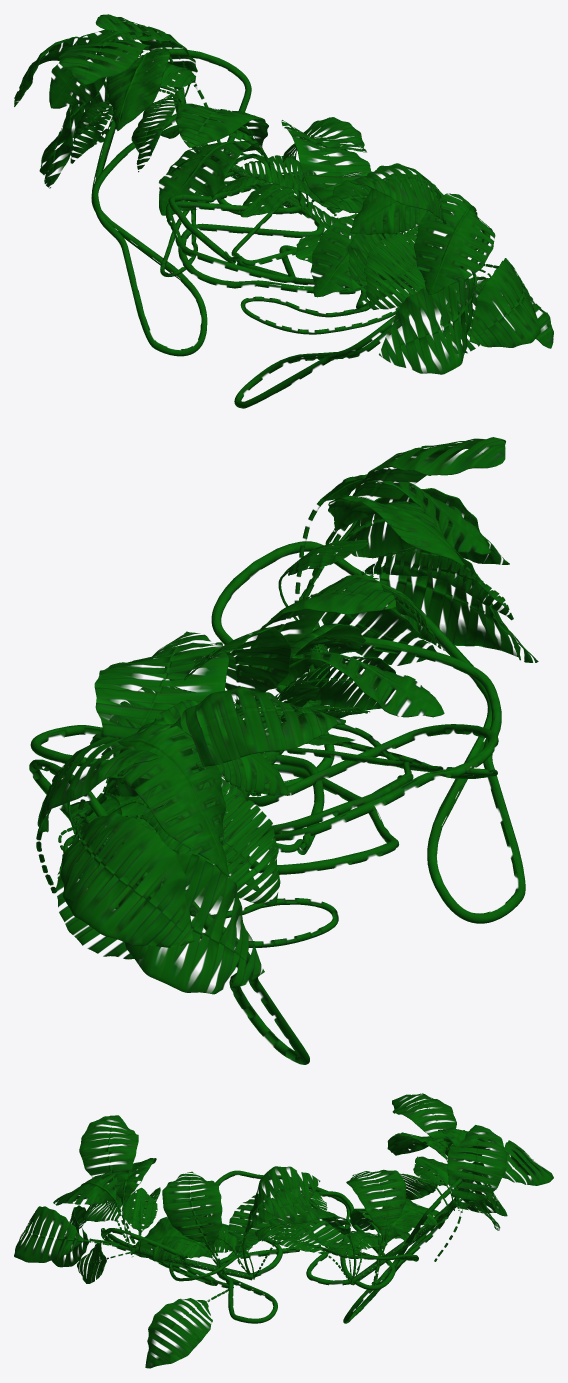
File: top.leaves.glb
3 views of the same model, one above another, from view 1: azimuth 30°, elevation 25°; view 2: azimuth 150°, elevation 25°; view 3: azimuth 270°, elevation 25° (orthographic). The views are drawn at different scales.
Visible parts, largest first — view 1: human_liver_1128_aorta.012; view 2: human_liver_1128_aorta.012; view 3: human_liver_1128_aorta.012.
Boxes of the visible parts, left/top/right/bottom form: human_liver_1128_aorta.012: left=14, top=14, right=553, bottom=408; human_liver_1128_aorta.012: left=29, top=437, right=538, bottom=1064; human_liver_1128_aorta.012: left=14, top=1093, right=553, bottom=1368.
Size of the model in its own units: 1.05 by 0.901 by 2.07.
2 materials, 2 textured.
